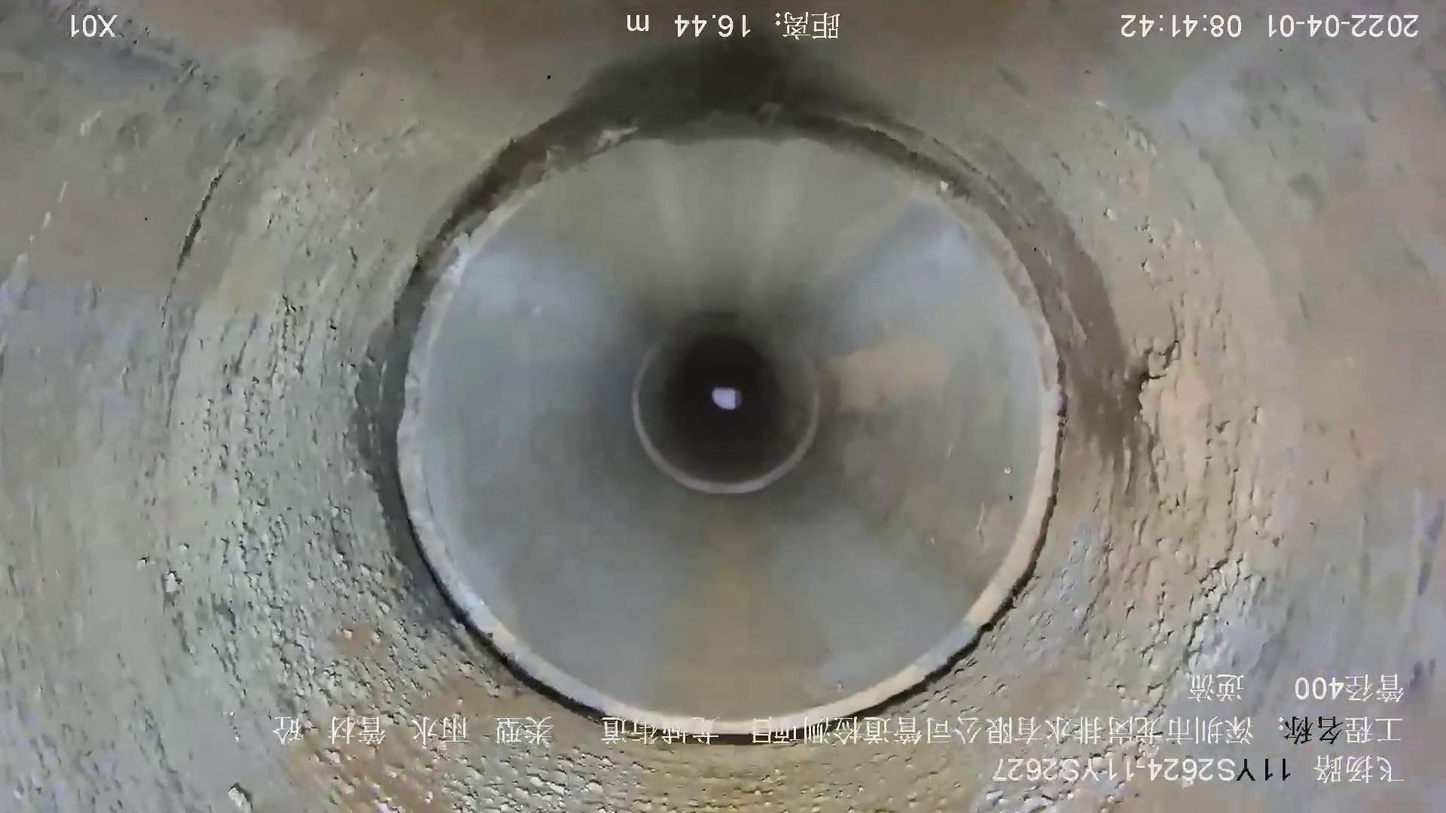CKTJ: (389, 99, 1079, 749), (631, 346, 822, 494)
